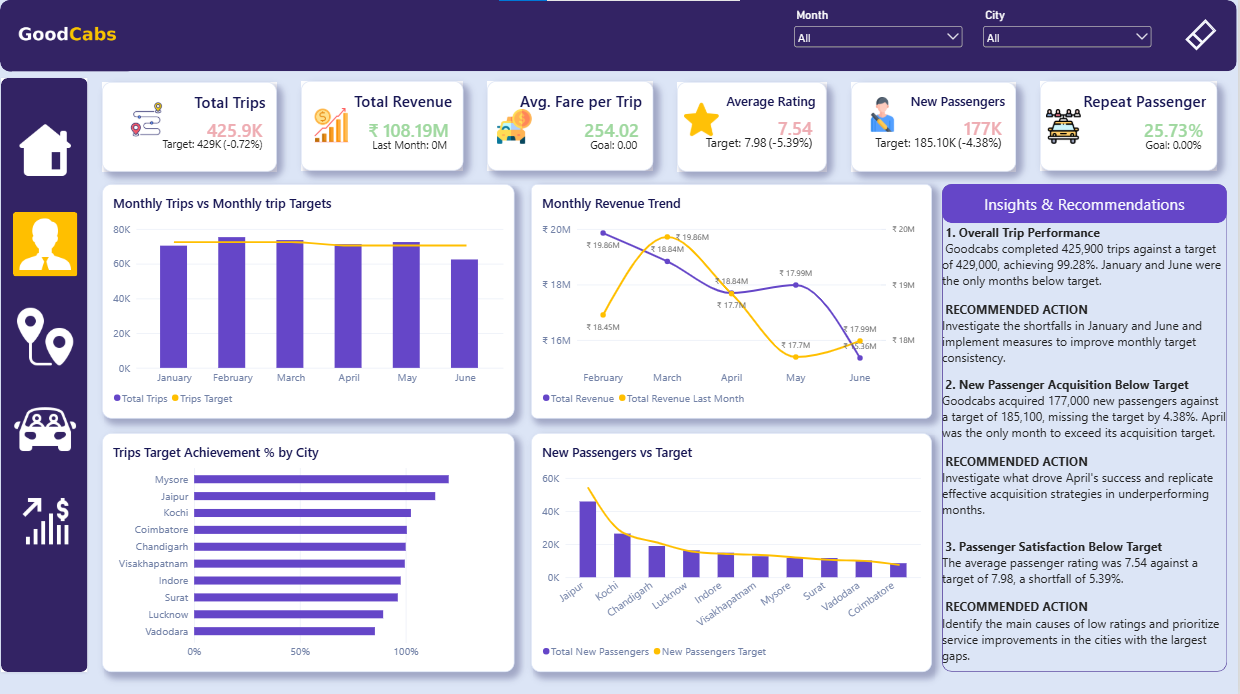

The page's visual inventory and layout, read from the dashboard file:
{"tool":"powerbi","page":{"name":"Executive","canvas":[1920,1080],"ordinal":1},"visuals":[{"type":"shape","box":[0,0,1919.3,110.6],"z":0},{"type":"shape","box":[2.2,121.4,134.5,921.7],"z":1000},{"type":"slicer","fields":{"Values":["dim_city.city_name"]},"box":[1521.3,13,271.1,86.7],"z":2000},{"type":"slicer","fields":{"Values":["dim_date.month_name"]},"box":[1227.5,13,271.1,86.7],"z":3000},{"type":"actionButton","box":[1815.2,13,88.9,86.7],"z":4000},{"type":"kpi","title":"Total Trips","fields":{"Goal":["KEY MEASURES.TRIPS TARGET KPI ALL"],"Indicator":["KEY MEASURES.TOTAL TRIPS KPI ALL"],"TrendLine":["dim_date.start_of_month"]},"box":[158.3,128,271.1,138.8],"z":4000,"group":"g6"},{"type":"kpi","title":"Total Revenue","fields":{"Goal":["KEY MEASURES.TOTAL REVENUE LM KPI ALL"],"Indicator":["KEY MEASURES.TOTAL REVENUE KPI ALL"],"TrendLine":["dim_date.start_of_month"]},"box":[466.7,125.8,251.6,138.8],"z":5000,"group":"g5"},{"type":"lineClusteredColumnComboChart","title":"Monthly Trips vs Monthly trip Targets","fields":{"Category":["dim_date.month_name"],"Y":["KEY MEASURES.TOTAL TRIPS"],"Y2":["KEY MEASURES.TRIPS TARGET"]},"box":[158.3,286.3,639.8,364.3],"z":5000},{"type":"kpi","title":"Avg. Fare per Trip","fields":{"Goal":["KEY MEASURES.AVERAGE FARE PER TRIP KPI ALL LM"],"Indicator":["KEY MEASURES.AVERAGE FARE PER TRIP KPI ALL"],"TrendLine":["dim_date.start_of_month"]},"box":[755.6,125.8,258.1,138.8],"z":6000,"group":"g4"},{"type":"kpi","title":"Average Rating","fields":{"Goal":["KEY MEASURES.AVERAGE PASSENGER RATING TARGET KPI ALL"],"Indicator":["KEY MEASURES.AVERAGE PASSENGER RATING KPI ALL"],"TrendLine":["dim_date.start_of_month"]},"box":[1050.9,128,232,138.8],"z":6000,"group":"g3"},{"type":"lineChart","title":"Monthly Revenue Trend","fields":{"Category":["dim_date.month_name"],"Y":["KEY MEASURES.TOTAL REVENUE"],"Y2":["KEY MEASURES.TOTAL REVENUE LM"]},"box":[824.1,286.3,622.4,364.3],"z":6000},{"type":"kpi","title":"Repeat Passenger","fields":{"Goal":["KEY MEASURES.REPEAT PASSENGER RATE KPI LM ALL"],"Indicator":["KEY MEASURES.REPEAT PASSENGER RATE KPI ALL"],"TrendLine":["dim_date.start_of_month"]},"box":[1613.5,125.8,275.4,138.8],"z":7000,"group":"g1"},{"type":"lineClusteredColumnComboChart","title":"New Passengers vs Target","fields":{"Category":["dim_city.city_name"],"Y":["KEY MEASURES.TOTAL NEW PASSENGERS"],"Y2":["KEY MEASURES.NEW PASSENGER TARGET"]},"box":[824.1,672.3,622.4,370.8],"z":7000},{"type":"kpi","title":"New Passengers","fields":{"Goal":["KEY MEASURES.NEW PASSENGER TARGET KPI ALL"],"Indicator":["KEY MEASURES.TOTAL NEW PASSENGERS KPI ALL"],"TrendLine":["dim_date.start_of_month"]},"box":[1320.3,128,255.9,138.8],"z":8000,"group":"g2"},{"type":"barChart","title":"Trips Target Achievement % by City","fields":{"Category":["dim_city.city_name"],"Y":["KEY MEASURES.TRIPS TARGET ACHIEVEMENT %"]},"box":[158.3,672.3,639.8,370.8],"z":8000},{"type":"shape","box":[1461.7,286.3,442.4,756.9],"z":9000},{"type":"image","box":[2.2,0,210.4,110.6],"z":10000},{"type":"group","id":"g1","title":"Group 1","box":[1613.5,125.8,275.4,138.8],"z":11000},{"type":"group","id":"g2","title":"Group 2","box":[1320.3,128,255.9,138.8],"z":12000},{"type":"group","id":"g3","title":"Group 3","box":[1050.9,128,232,138.8],"z":13000},{"type":"group","id":"g4","title":"Group 4","box":[755.6,125.8,258.1,138.8],"z":14000},{"type":"group","id":"g5","title":"Group 5","box":[466.7,125.8,251.6,138.8],"z":15000},{"type":"group","id":"g6","title":"Group 6","box":[158.3,128,271.1,138.8],"z":16000},{"type":"shape","box":[1461.7,286.3,442.4,60.7],"z":17000},{"type":"textbox","box":[1461.7,347,442.4,221.2],"z":18000},{"type":"textbox","box":[1461.7,583.4,442.4,249.4],"z":19000},{"type":"textbox","box":[1461.7,834.9,442.4,208.2],"z":20000},{"type":"image","box":[199.5,158.4,54.2,54.2],"z":21000,"group":"g6"},{"type":"actionButton","box":[19.5,329.6,100,100],"z":21000},{"type":"image","box":[1342,151.9,54.2,54.2],"z":22000,"group":"g2"},{"type":"actionButton","box":[19.5,472.8,100,100],"z":22000},{"type":"image","box":[1061.7,158.4,54.2,54.2],"z":23000,"group":"g3"},{"type":"actionButton","box":[19.5,615.9,100,100],"z":23000},{"type":"image","box":[770.8,169.2,54.2,54.2],"z":23002,"group":"g4"},{"type":"actionButton","box":[19.5,759,100,100],"z":24000},{"type":"image","box":[1622.2,169.2,54.2,54.2],"z":25000,"group":"g1"},{"type":"actionButton","box":[19.5,186.5,100,100],"z":25000},{"type":"image","box":[486.2,167,54.2,54.2],"z":25001,"group":"g5"}]}

Visuals, with their boxes in screenshot pixels (x1, y1, x2, y2), scaled from the page's 1920x1080 canvas onto the 1240x694 screenshot:
shape: left=0, top=0, right=1239, bottom=71
shape: left=1, top=78, right=88, bottom=670
slicer - dim_city.city_name: left=983, top=8, right=1158, bottom=64
slicer - dim_date.month_name: left=793, top=8, right=968, bottom=64
actionButton: left=1172, top=8, right=1230, bottom=64
"Total Trips" kpi: left=102, top=82, right=277, bottom=171
"Total Revenue" kpi: left=301, top=81, right=464, bottom=170
"Monthly Trips vs Monthly trip Targets" lineClusteredColumnComboChart: left=102, top=184, right=515, bottom=418
"Avg. Fare per Trip" kpi: left=488, top=81, right=655, bottom=170
"Average Rating" kpi: left=679, top=82, right=829, bottom=171
"Monthly Revenue Trend" lineChart: left=532, top=184, right=934, bottom=418
"Repeat Passenger" kpi: left=1042, top=81, right=1220, bottom=170
"New Passengers vs Target" lineClusteredColumnComboChart: left=532, top=432, right=934, bottom=670
"New Passengers" kpi: left=853, top=82, right=1018, bottom=171
"Trips Target Achievement % by City" barChart: left=102, top=432, right=515, bottom=670
shape: left=944, top=184, right=1230, bottom=670
image: left=1, top=0, right=137, bottom=71
"Group 1" group: left=1042, top=81, right=1220, bottom=170
"Group 2" group: left=853, top=82, right=1018, bottom=171
"Group 3" group: left=679, top=82, right=829, bottom=171
"Group 4" group: left=488, top=81, right=655, bottom=170
"Group 5" group: left=301, top=81, right=464, bottom=170
"Group 6" group: left=102, top=82, right=277, bottom=171
shape: left=944, top=184, right=1230, bottom=223
textbox: left=944, top=223, right=1230, bottom=365
textbox: left=944, top=375, right=1230, bottom=535
textbox: left=944, top=537, right=1230, bottom=670
image: left=129, top=102, right=164, bottom=137
actionButton: left=13, top=212, right=77, bottom=276
image: left=867, top=98, right=902, bottom=132
actionButton: left=13, top=304, right=77, bottom=368
image: left=686, top=102, right=721, bottom=137
actionButton: left=13, top=396, right=77, bottom=460
image: left=498, top=109, right=533, bottom=144
actionButton: left=13, top=488, right=77, bottom=552
image: left=1048, top=109, right=1083, bottom=144
actionButton: left=13, top=120, right=77, bottom=184
image: left=314, top=107, right=349, bottom=142
